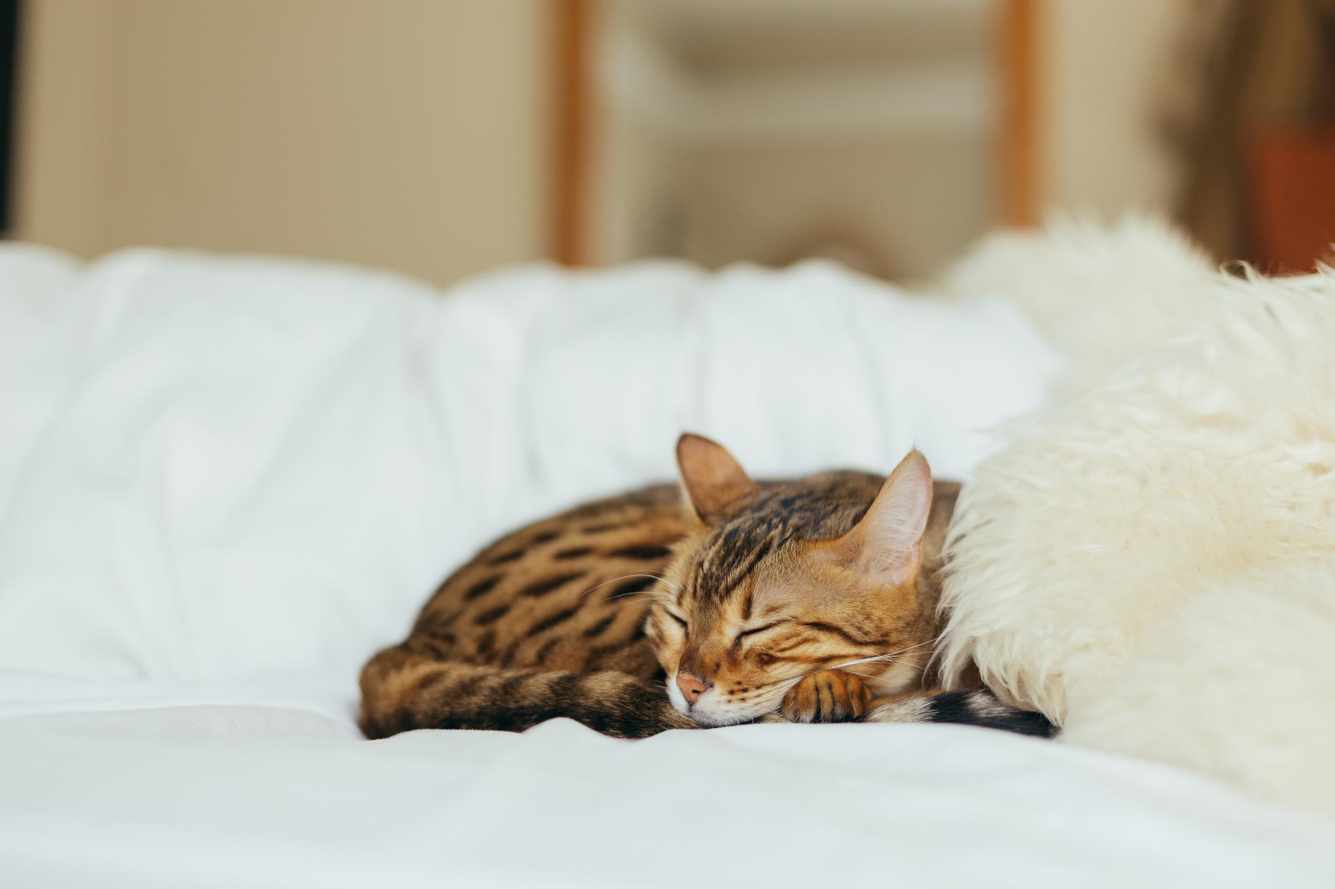cat: (354, 430, 1059, 741)
